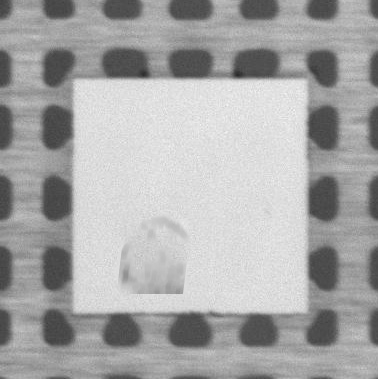DIE_INK: (111, 211, 192, 299)
